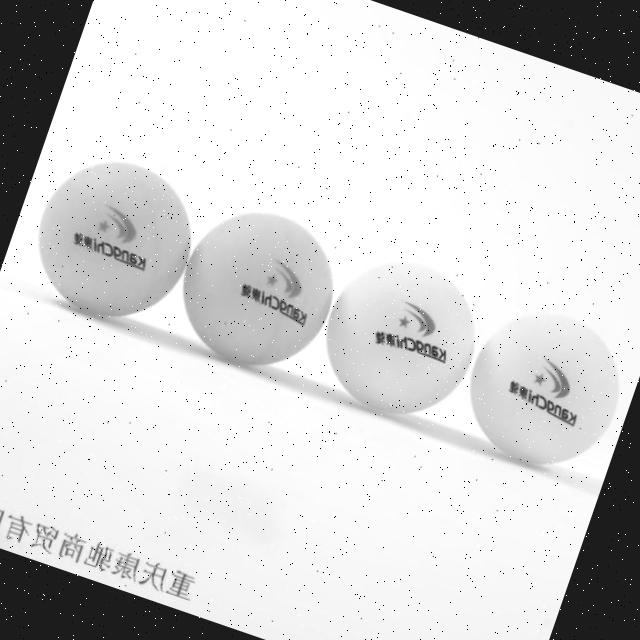ping-pong-ball: (444, 286, 640, 484), (302, 241, 498, 439), (18, 140, 212, 337), (160, 189, 352, 387)
